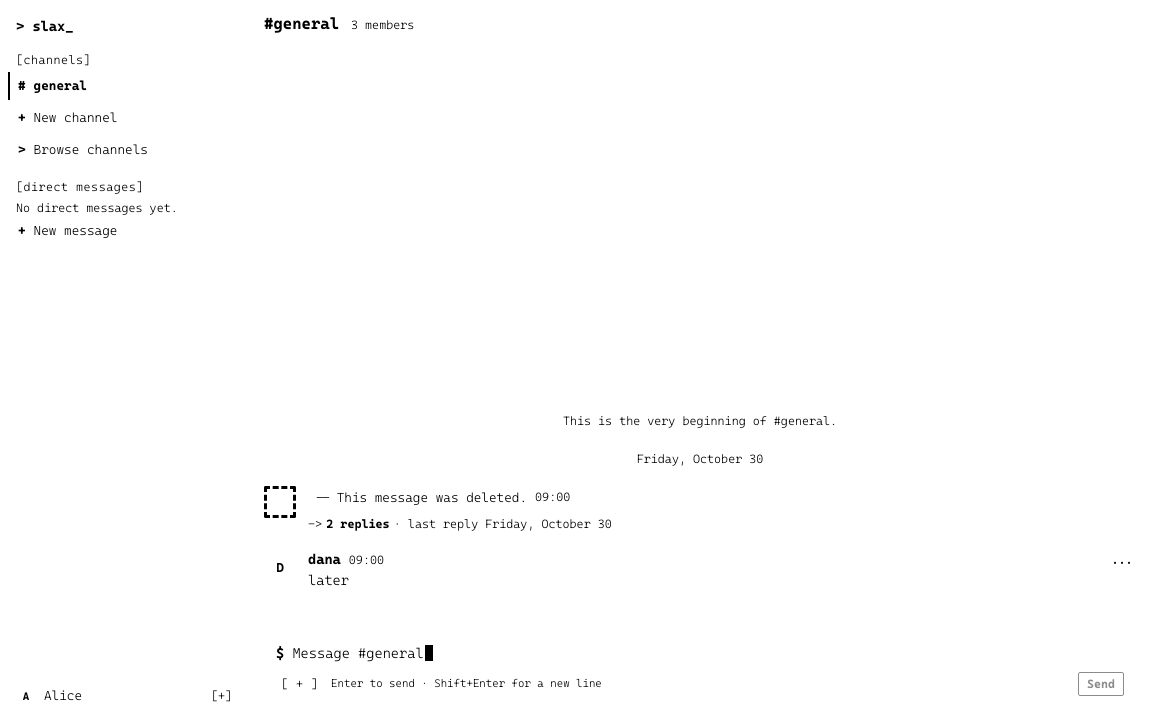
Scenario: thread panel › deleted_parent_shows_tombstone_and_replies
The width and height of the screenshot is (1152, 720).
Click the link with class "thread-link".
click(460, 524)  # box [308,515,612,533]
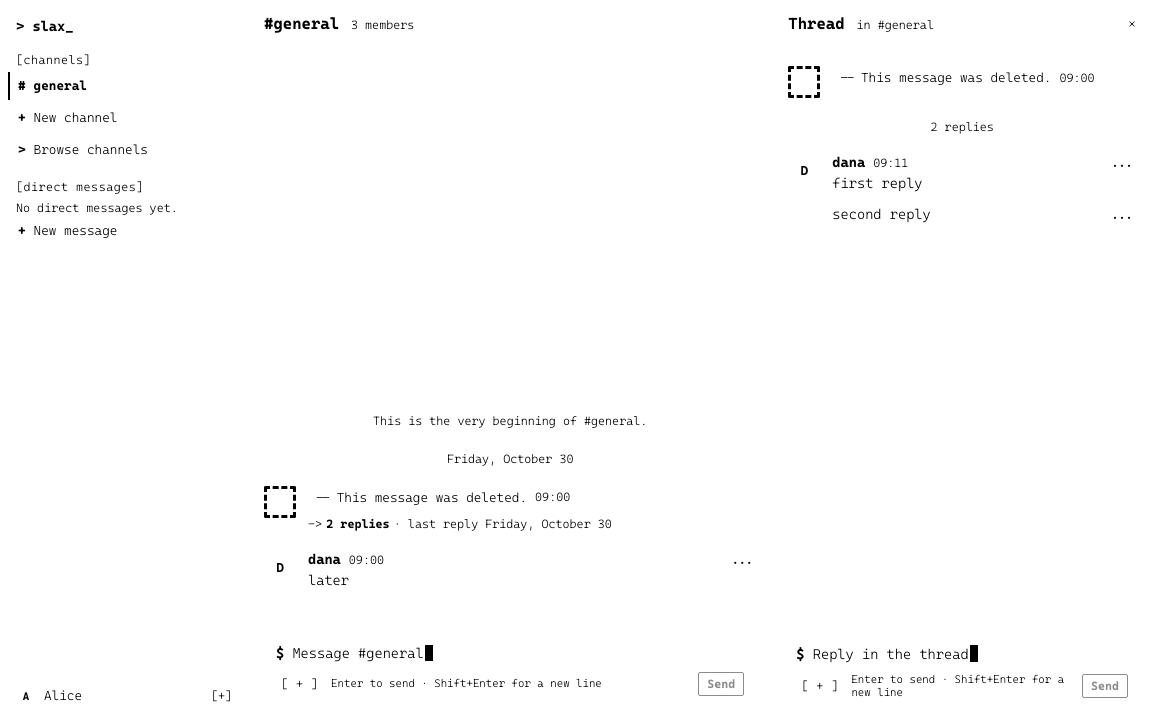
expect the text "2 replies" next to "last reply  Friday, October 30" is shown: met, box [326,517,390,531]
expect the element with class "tombstone" below "in  #general" shows "This message was deleted.": met, box [861,70,1051,85]
expect the text box named "Write a message: Reply in the thread" is shown: met, box [813,644,1128,664]
